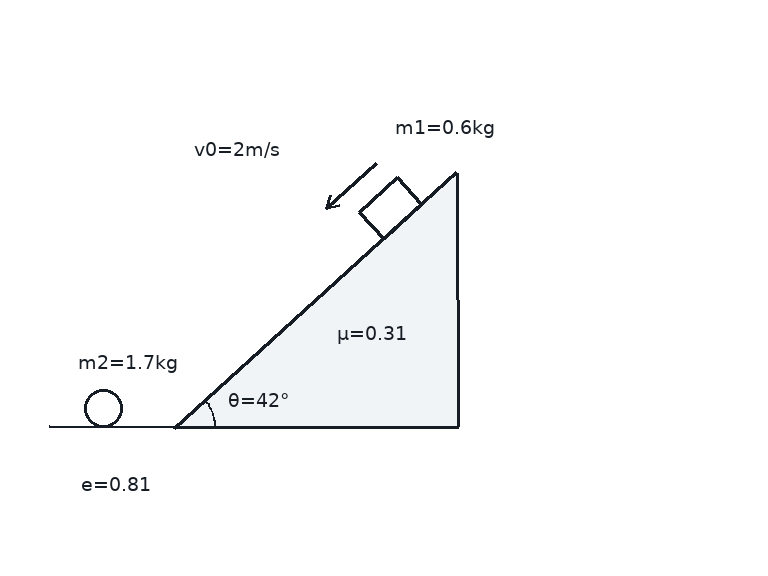ball: (82, 387, 124, 429)
block: (357, 175, 424, 241)
ramp: (173, 170, 460, 429)
